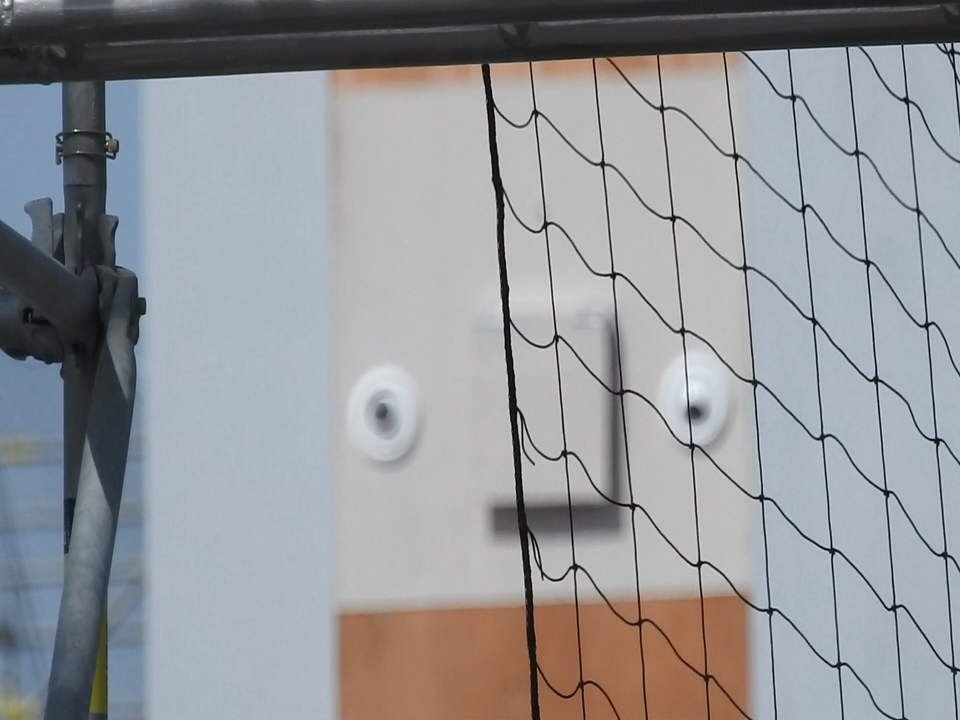facade: (344, 309, 727, 509)
